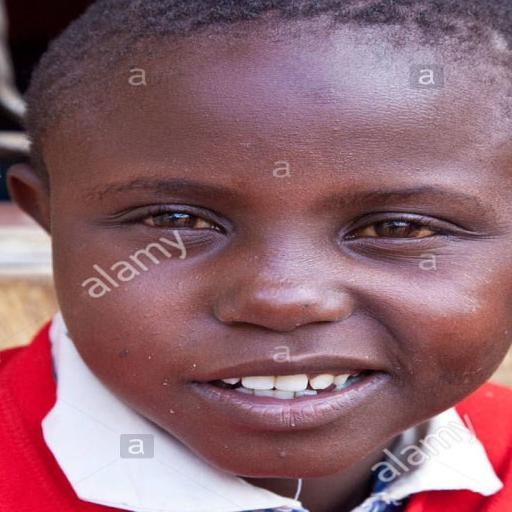Autism: (7, 14, 512, 512)
